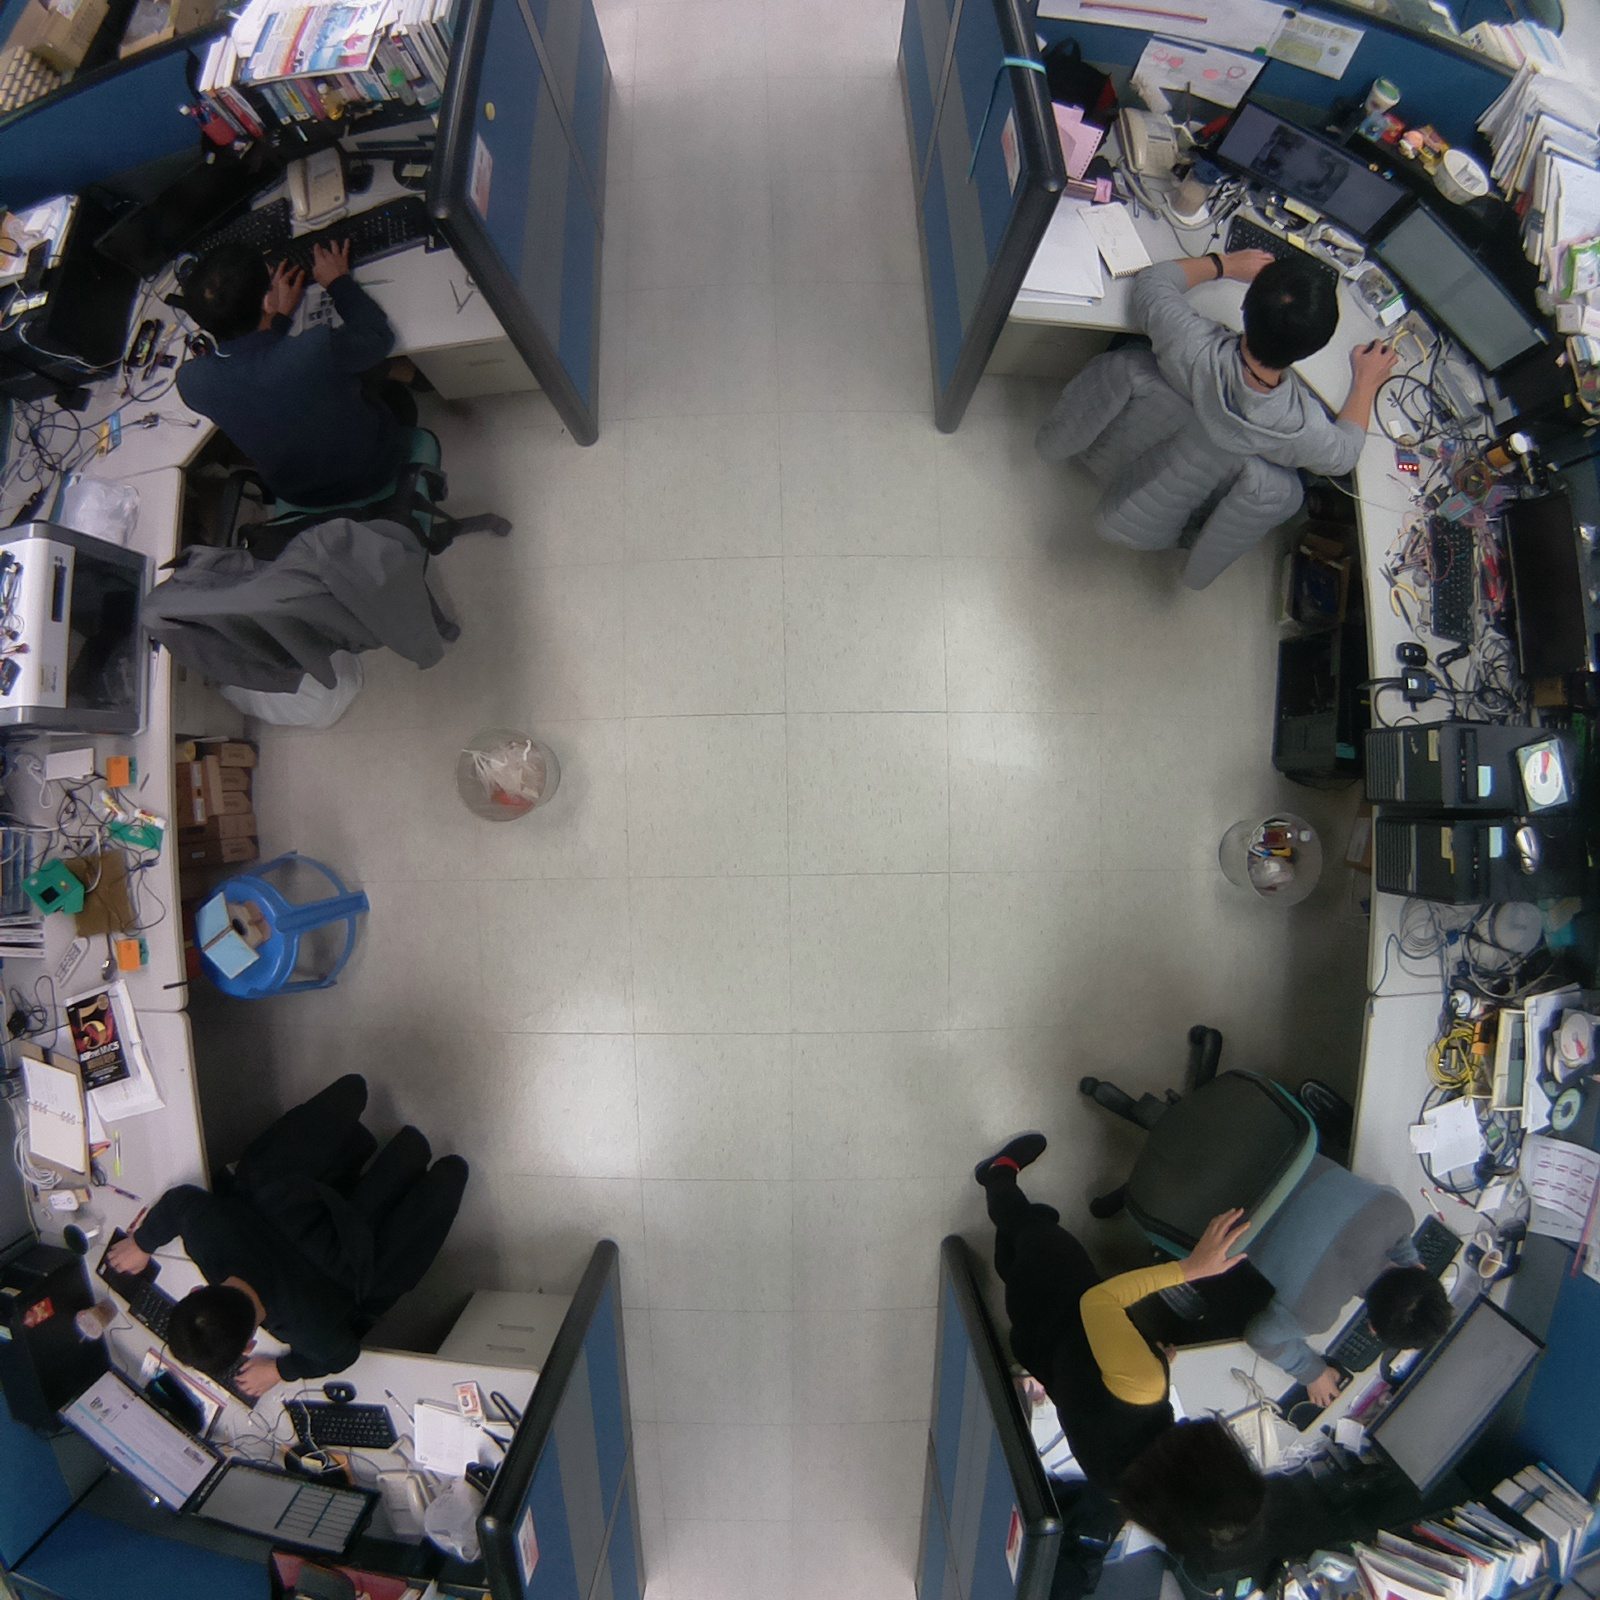head: (1115, 1408, 1272, 1568), (1236, 246, 1349, 380), (174, 229, 295, 353), (157, 1270, 274, 1380), (1355, 1261, 1463, 1359)
sitting: (119, 209, 529, 706), (1053, 1014, 1481, 1422), (1014, 227, 1403, 599), (101, 1052, 483, 1403)
standing: (948, 1111, 1283, 1592)
